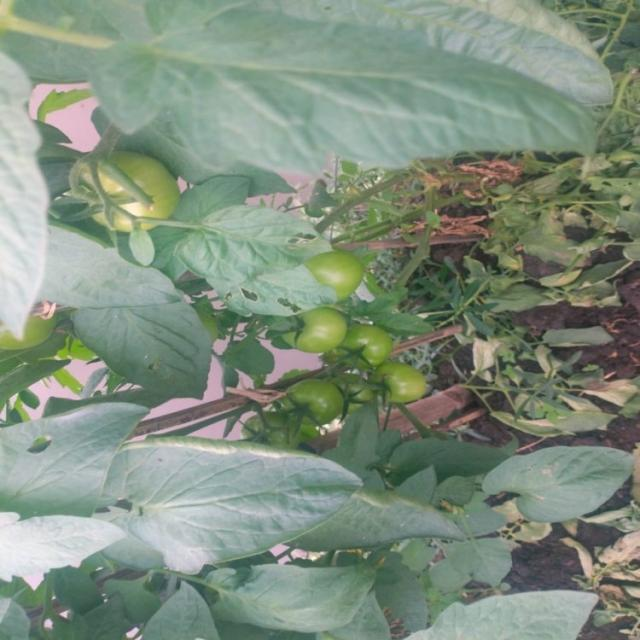tomato: (69, 148, 169, 241), (282, 369, 349, 440), (366, 346, 435, 411), (305, 249, 374, 307), (277, 302, 338, 359), (337, 307, 392, 363), (326, 370, 380, 420), (247, 401, 301, 450)
